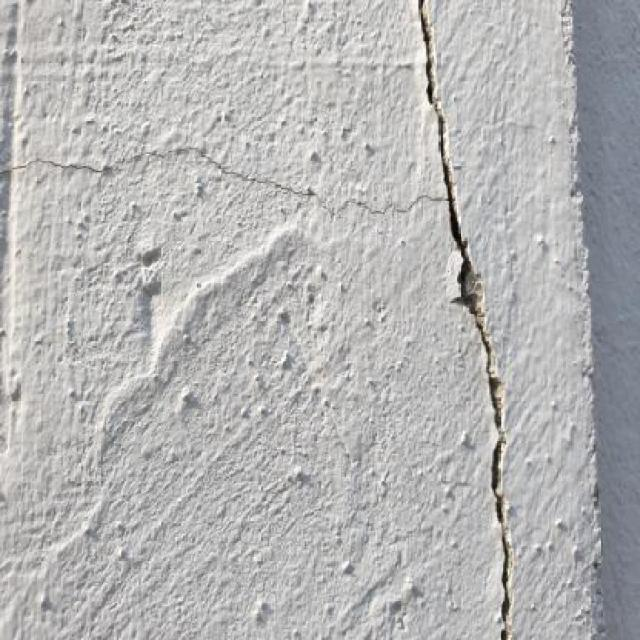horizontal crack: (0, 140, 452, 247)
vertical crack: (421, 0, 517, 639)
